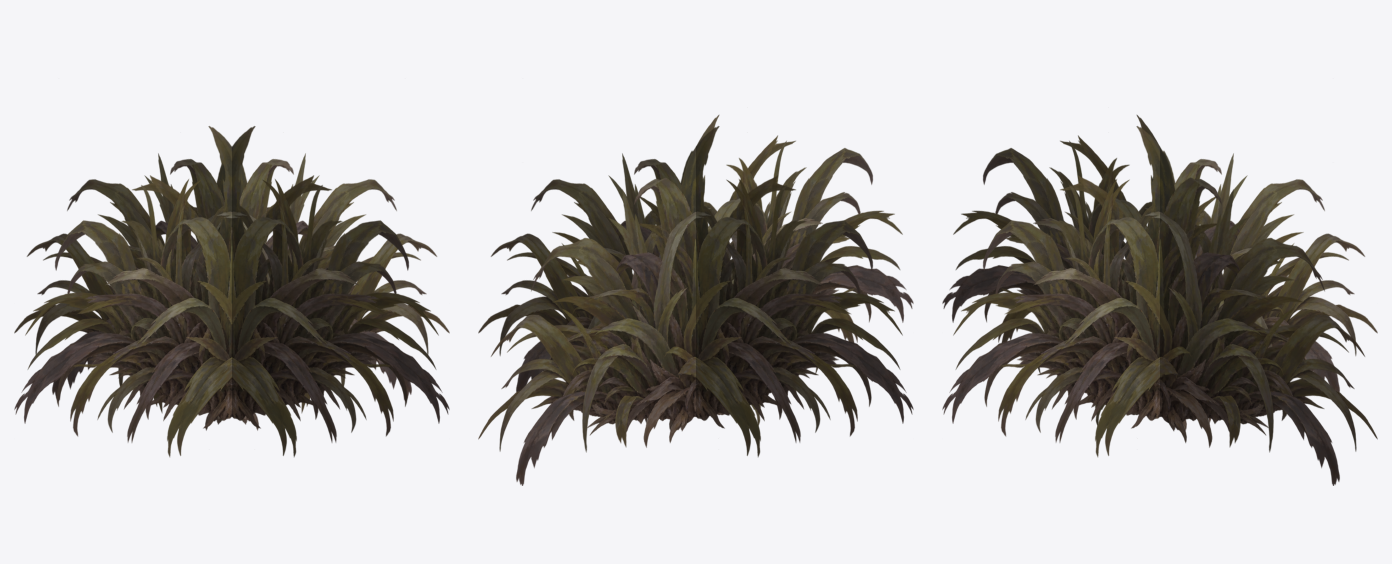
File: v4-marsh-path-scatter-grass-tussock.glb
The picture shows the model from 3 angles, left to right: view 1: azimuth 30°, elevation 25°; view 2: azimuth 150°, elevation 25°; view 3: azimuth 270°, elevation 25°; orthographic projection.
Parts seen in each view (by area): view 1: v4-marsh-path-scatter-grass-tussock; view 2: v4-marsh-path-scatter-grass-tussock; view 3: v4-marsh-path-scatter-grass-tussock.
Boxes of the visible parts, x1=… form: v4-marsh-path-scatter-grass-tussock: x1=14, y1=126, x2=449, y2=456; v4-marsh-path-scatter-grass-tussock: x1=478, y1=115, x2=913, y2=485; v4-marsh-path-scatter-grass-tussock: x1=942, y1=115, x2=1377, y2=485.
Bounding box in the file's own units: 0.7044 × 0.5 × 0.61.
1 material, 1 textured.
